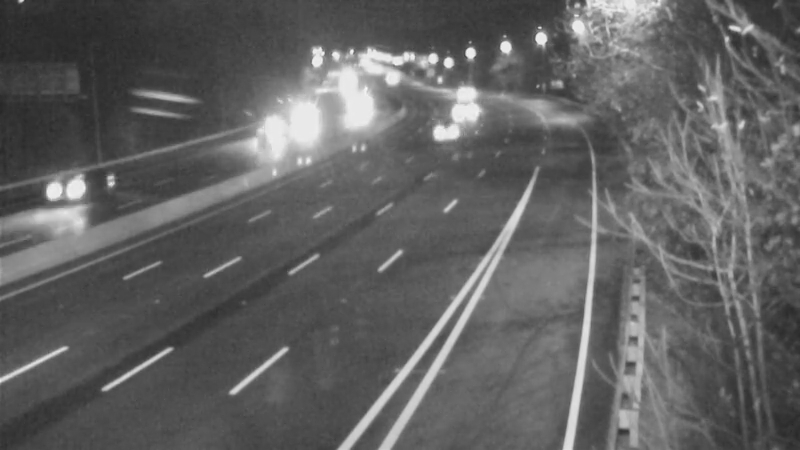vehicle: (27, 147, 107, 227), (434, 66, 484, 116), (445, 88, 495, 138), (419, 111, 469, 161), (247, 112, 297, 162), (278, 96, 328, 146), (327, 88, 377, 138)
